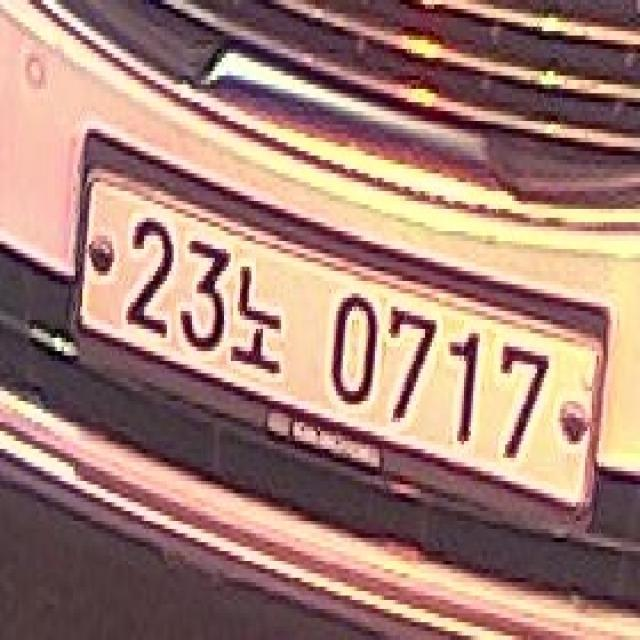0: (323, 286, 384, 416)
1: (439, 316, 488, 448)
2: (118, 206, 179, 345)
3: (175, 224, 235, 362)
6: (379, 290, 442, 436)
7: (487, 328, 558, 479), (380, 291, 446, 433)
license_plate: (78, 176, 603, 511)
no: (227, 245, 296, 381)
